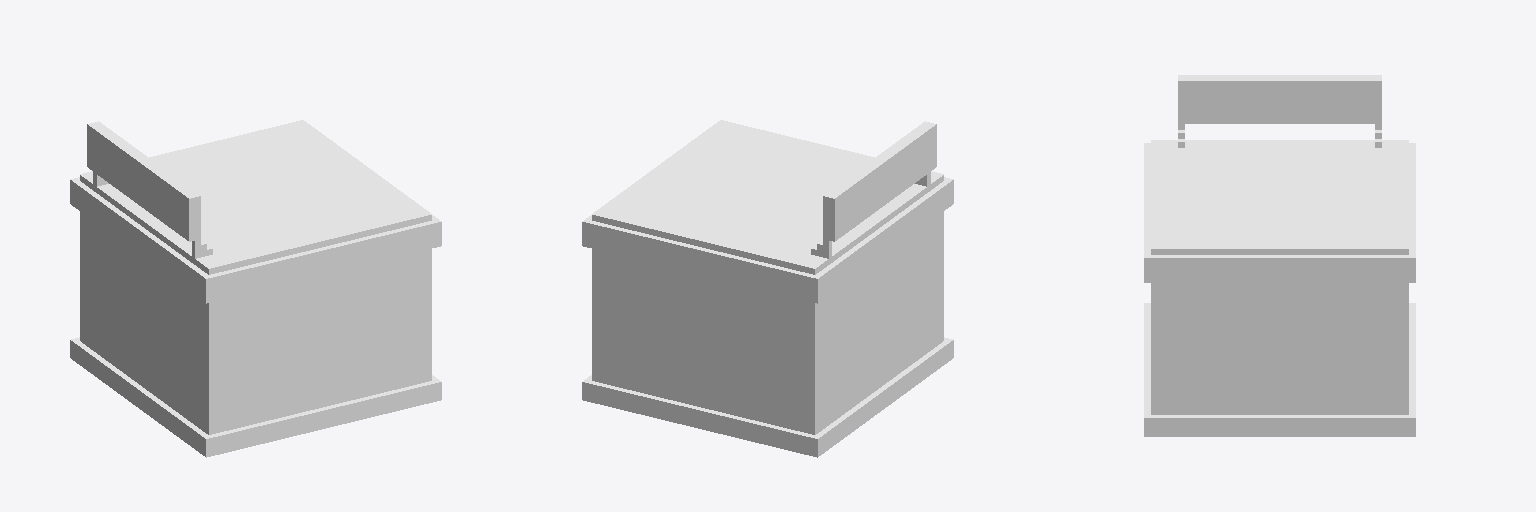
Rendered from barbershop.obj.
3 renders of one model, left to right at view 1: azimuth 30°, elevation 25°; view 2: azimuth 150°, elevation 25°; view 3: azimuth 270°, elevation 25°, orthographic.
Visible parts, largest first — view 1: barbershop; view 2: barbershop; view 3: barbershop.
Part boxes in pixels (left/top/right/bottom): barbershop: left=70, top=120, right=441, bottom=457; barbershop: left=582, top=120, right=953, bottom=457; barbershop: left=1144, top=75, right=1415, bottom=436.
Bounding box in the file's own units: 40 × 40 × 40.